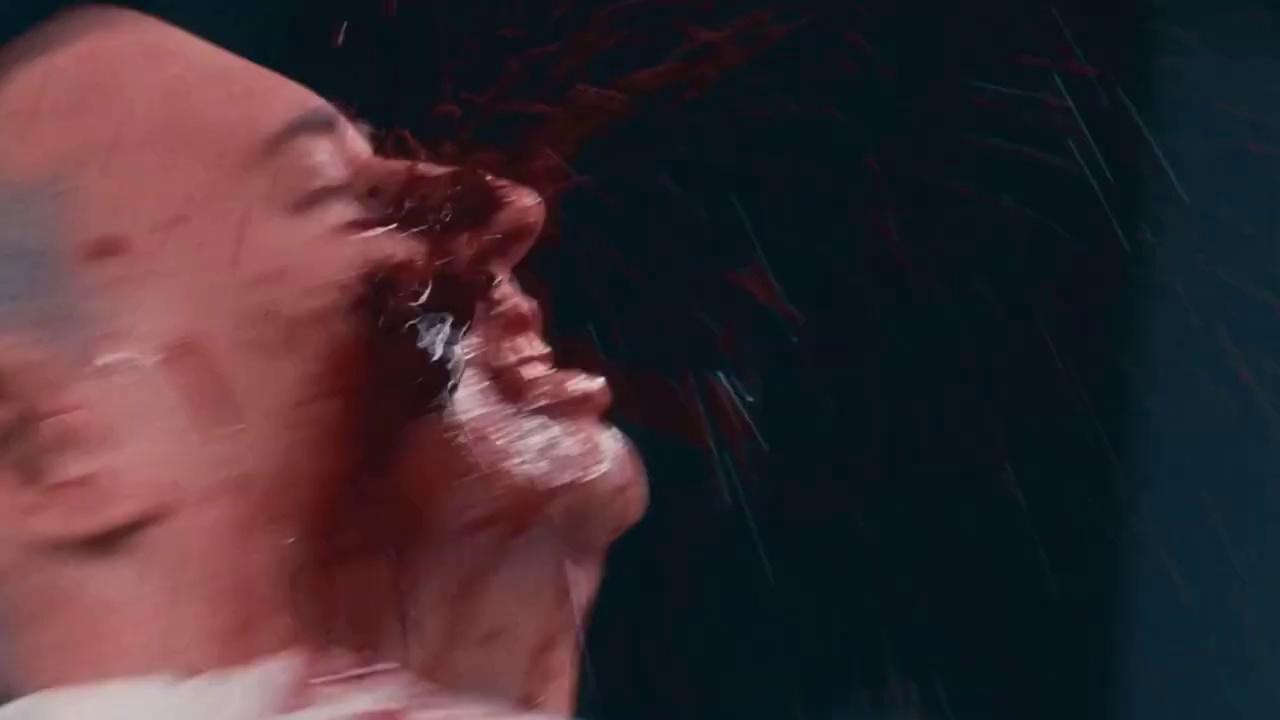Fire: (727, 194, 809, 341), (612, 14, 748, 59), (72, 231, 141, 278)
